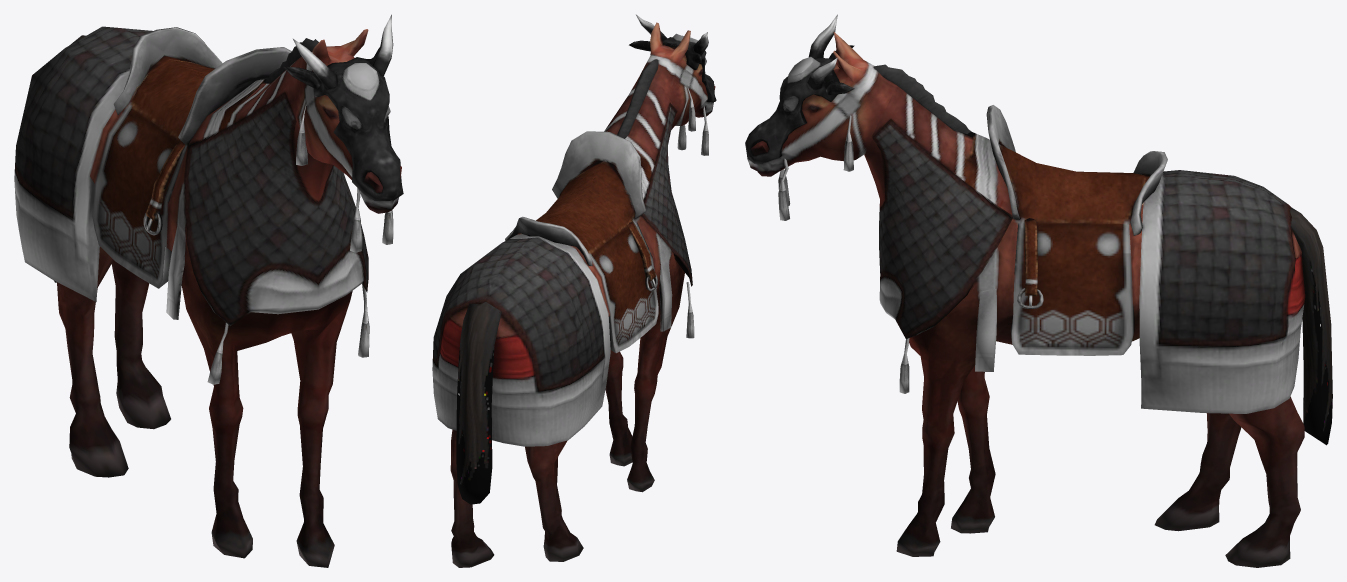
Rendered from body-base.glb.
3 renders of one model, left to right at view 1: azimuth 30°, elevation 25°; view 2: azimuth 150°, elevation 25°; view 3: azimuth 270°, elevation 25°, orthographic. The views are drawn at different scales.
Size of the model in its own units: 0.876 by 2.55 by 2.67.
Materials: 1 (1 with a texture image).
